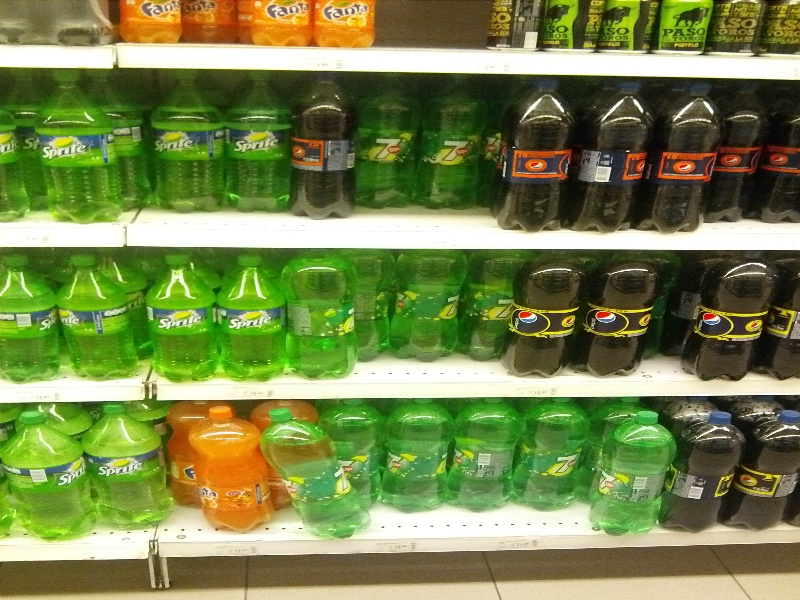lemonade: (263, 409, 378, 546), (35, 72, 127, 222), (187, 405, 280, 539), (283, 75, 359, 224), (499, 82, 573, 232), (83, 407, 175, 526), (693, 247, 773, 382), (414, 71, 490, 213), (588, 413, 675, 537), (151, 71, 226, 213), (648, 84, 719, 234), (56, 256, 141, 380), (6, 411, 90, 535), (577, 81, 643, 235), (283, 249, 359, 382), (216, 255, 290, 385), (146, 255, 220, 384), (512, 395, 588, 516), (390, 247, 466, 365), (448, 395, 522, 516), (587, 253, 654, 382), (378, 398, 452, 511), (671, 413, 741, 532), (512, 251, 576, 381), (1, 253, 66, 381), (356, 71, 412, 213)
